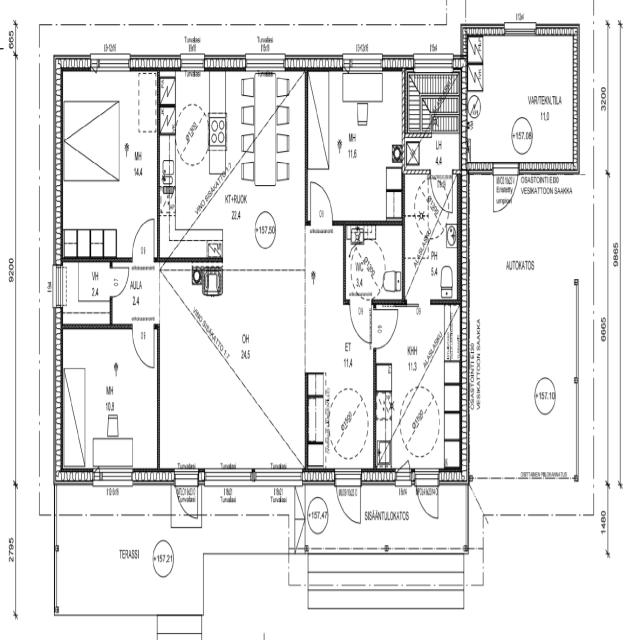door: (306, 175, 338, 231), (336, 468, 362, 529), (414, 466, 440, 524), (371, 300, 400, 350), (347, 296, 374, 347), (492, 162, 519, 212), (132, 214, 158, 265), (131, 322, 157, 370), (176, 474, 198, 518), (108, 261, 130, 299), (395, 462, 412, 488)
window: (91, 462, 136, 491), (242, 50, 292, 75), (88, 50, 132, 76), (341, 51, 385, 75), (51, 262, 68, 315), (501, 16, 538, 38), (180, 51, 208, 74), (396, 462, 412, 486)
zone: (156, 71, 304, 267), (59, 70, 161, 262), (304, 67, 405, 226), (58, 322, 159, 473), (375, 304, 464, 473), (466, 32, 578, 164), (404, 133, 458, 306), (345, 222, 404, 300), (61, 260, 112, 328)
